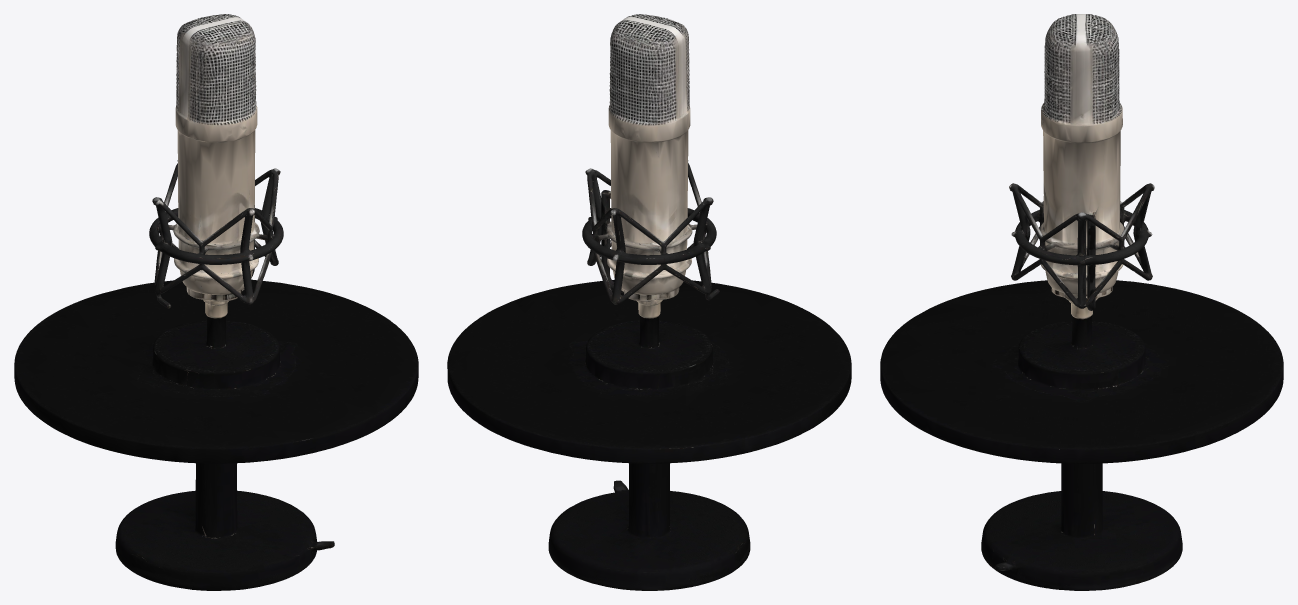
File: mic.glb
3 views of the same model, side by side, from view 1: azimuth 30°, elevation 25°; view 2: azimuth 150°, elevation 25°; view 3: azimuth 270°, elevation 25° (orthographic).
Parts seen in each view (by area): view 1: Mesh_0; view 2: Mesh_0; view 3: Mesh_0.
Part boxes in pixels (box(x1,y1,x2,y2)): Mesh_0: box(14, 14, 418, 590); Mesh_0: box(447, 14, 851, 590); Mesh_0: box(880, 14, 1283, 590).
Bounding box in the file's own units: 1.33 × 1.91 × 1.33.
1 material, 1 textured.
